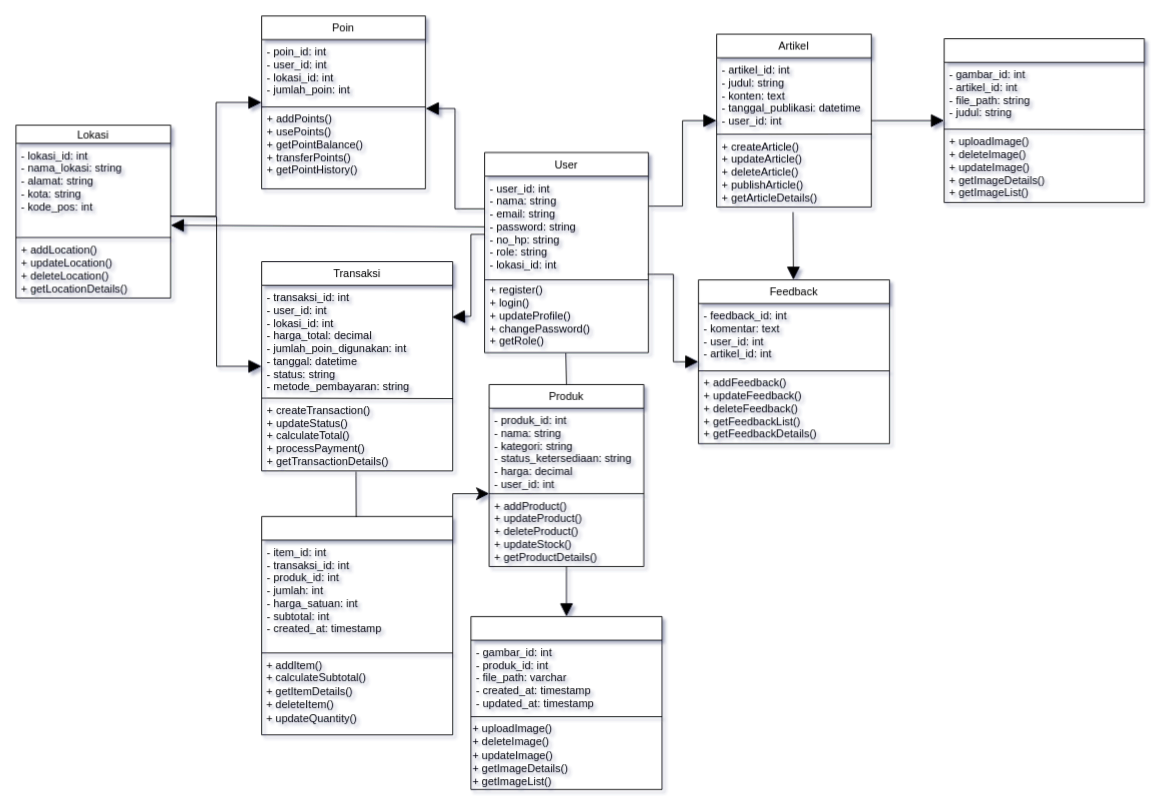
The diagram is 1168 pixels wide and 811 high, and some of its shapes have lost their labels. Each missing label, with the box of its shape:
ArtikelGambar: (943, 38, 1144, 202)
produk_gambar: (470, 616, 662, 789)
TransaksiItem: (261, 516, 453, 735)
